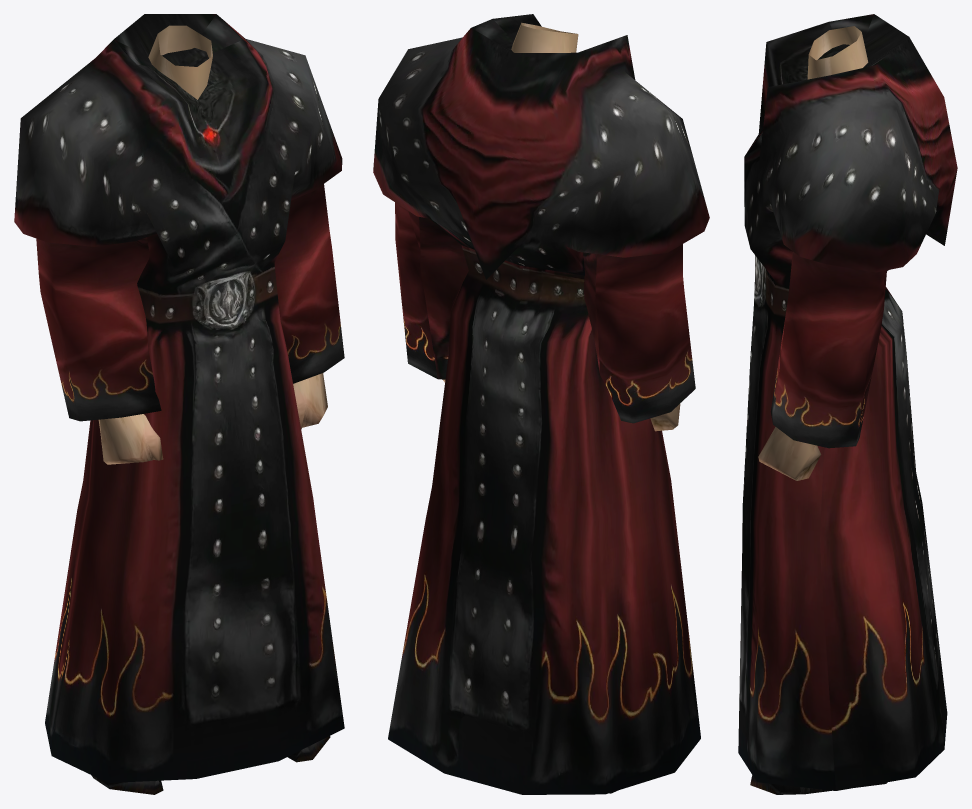
The model's file is OGIEN_T3_01.glb.
The picture shows the model from 3 angles, left to right: view 1: azimuth 30°, elevation 25°; view 2: azimuth 150°, elevation 25°; view 3: azimuth 270°, elevation 25°; orthographic projection. The views are drawn at different scales.
Parts seen in each view (by area): view 1: OGIEN_T3_01; view 2: OGIEN_T3_01; view 3: OGIEN_T3_01.
Boxes of the visible parts, x1,y1,x2,y2 form: OGIEN_T3_01: [14, 14, 344, 794]; OGIEN_T3_01: [373, 14, 709, 794]; OGIEN_T3_01: [738, 14, 957, 794].
Bounding box in the file's own units: 0.7517 × 1.66 × 0.4623.
2 materials, 2 textured.
